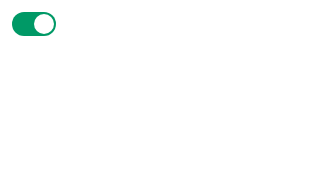
EditionFlagSwitch(reader_full_text) › keeps the new state after success
Later steps or results of the test are not shown.
Click the switch named "Full text for NABRE".
click(34, 24)  # box [12,12,56,36]
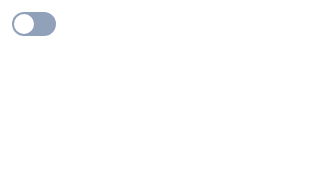
Now the switch named "Full text for NABRE" is not checked, box [12,12,56,36]
